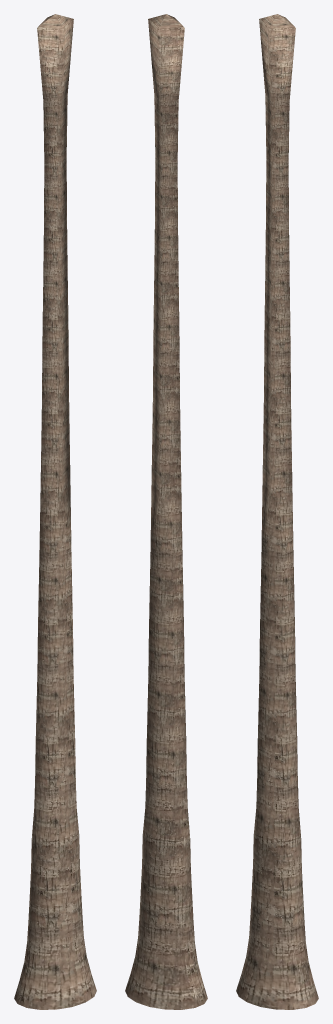
Rendered from m_palm_p2_3_trunk_0_lev2.glb.
3 views of the same model, side by side, from view 1: azimuth 30°, elevation 25°; view 2: azimuth 150°, elevation 25°; view 3: azimuth 330°, elevation 25° (orthographic).
Visible parts, largest first — view 1: m_palm_p2_3_trunk_0_lev2; view 2: m_palm_p2_3_trunk_0_lev2; view 3: m_palm_p2_3_trunk_0_lev2.
Boxes of the visible parts, x1,y1,x2,y2 form: m_palm_p2_3_trunk_0_lev2: (14,14,96,1009); m_palm_p2_3_trunk_0_lev2: (125,14,207,1009); m_palm_p2_3_trunk_0_lev2: (236,14,318,1009).
Size of the model in its own units: 0.4433 by 5.48 by 0.3401.
1 material, 1 textured.
